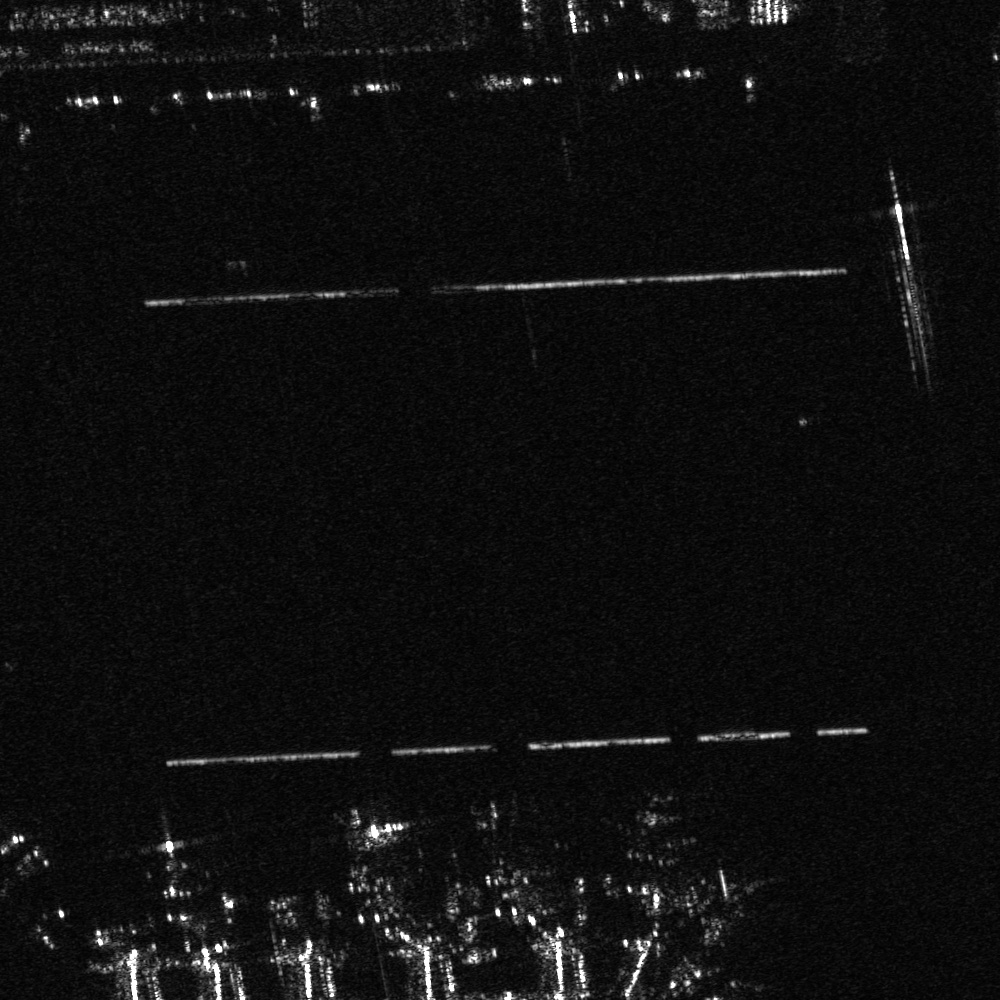A220: (151, 825, 220, 904)
A320/321: (604, 788, 704, 869), (469, 796, 530, 886), (333, 810, 388, 900)
